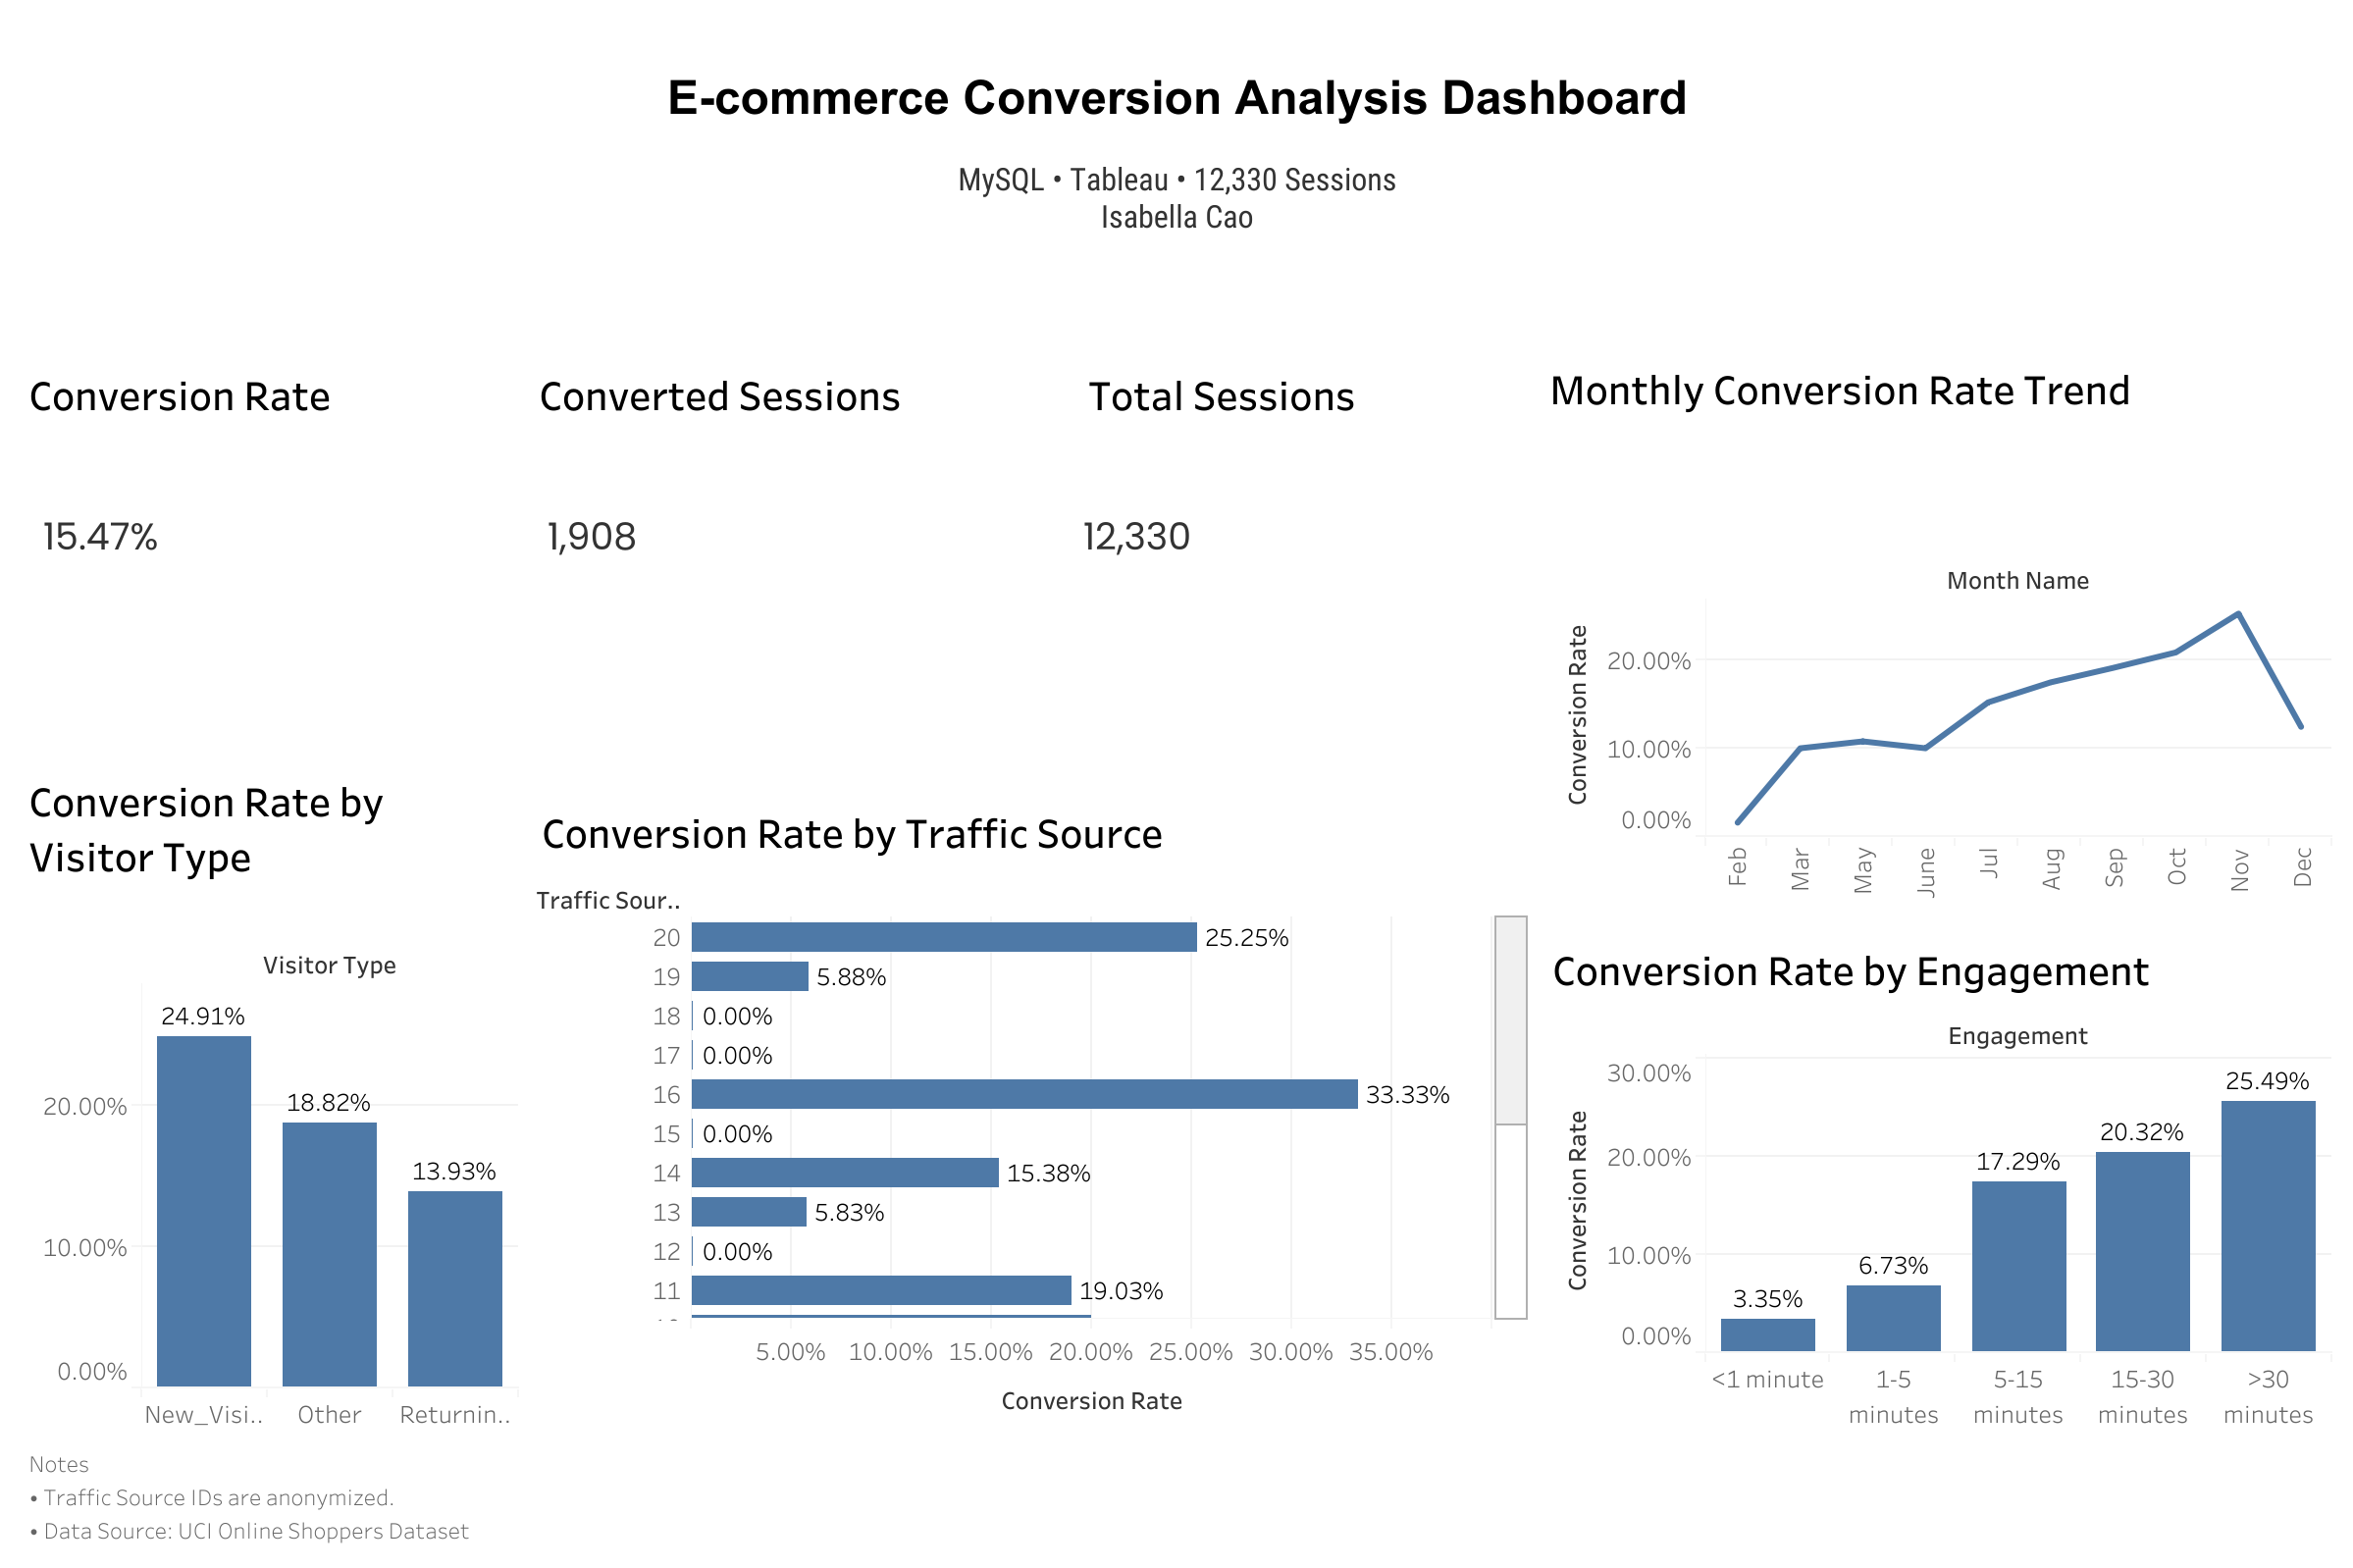

What the dashboard file says about the page in this screenshot:
{"tool":"tableau","page":{"name":"Dashboard 1","canvas":[1200,800],"ordinal":0},"visuals":[{"type":"text","box":[8,8,1184,121]},{"type":"blank","box":[8,129,331,32]},{"type":"blank","box":[339,129,444,32]},{"type":"text","box":[783,129,409,137]},{"type":"text","box":[8,161,260,80]},{"type":"text","box":[268,161,280,80]},{"type":"text","box":[548,161,235,80]},{"type":"worksheet","title":"KPI - Conversion Rate","mark":"Automatic","box":[8,241,260,140]},{"type":"worksheet","title":"KPI - Converted Sessions","mark":"Automatic","box":[268,241,268,159]},{"type":"worksheet","title":"KPI - Total Sessions","mark":"Automatic","box":[536,241,247,159]},{"type":"worksheet","title":"Monthly Conversion Trend","mark":"Line","rows":["Calculation_0014592174395408"],"cols":["month_name"],"box":[783,266,409,204.4]},{"type":"text","box":[8,381,260,81]},{"type":"worksheet","title":"Conversion by Traffic Source","mark":"Automatic","rows":["traffic_source_id"],"cols":["Calculation_0014592174395408"],"box":[268,400,515,333]},{"type":"worksheet","title":"Conversion by Visitor Type","mark":"Bar","rows":["Calculation_0014592174395408"],"cols":["visitor_type"],"box":[8,462,260,271]},{"type":"worksheet","title":"Conversion by Engagement","mark":"Automatic","rows":["Calculation_0014592174395408"],"cols":["engagement"],"box":[783,470.4,409,262.6]},{"type":"text","box":[8,733,1184,59]}]}

Visuals, with their boxes in screenshot pixels (x1, y1, x2, y2), scaled from the page's 1200x800 canvas onto the 2353x1568 screenshot:
text: select_region(16, 16, 2337, 253)
blank: select_region(16, 253, 664, 316)
blank: select_region(664, 253, 1536, 316)
text: select_region(1536, 253, 2337, 521)
text: select_region(16, 316, 526, 472)
text: select_region(526, 316, 1074, 472)
text: select_region(1074, 316, 1536, 472)
"KPI - Conversion Rate" worksheet: select_region(16, 472, 526, 747)
"KPI - Converted Sessions" worksheet: select_region(526, 472, 1051, 784)
"KPI - Total Sessions" worksheet: select_region(1051, 472, 1536, 784)
"Monthly Conversion Trend" worksheet (Line marks): select_region(1536, 521, 2337, 922)
text: select_region(16, 747, 526, 906)
"Conversion by Traffic Source" worksheet: select_region(526, 784, 1536, 1437)
"Conversion by Visitor Type" worksheet (Bar marks): select_region(16, 906, 526, 1437)
"Conversion by Engagement" worksheet: select_region(1536, 922, 2337, 1437)
text: select_region(16, 1437, 2337, 1552)
